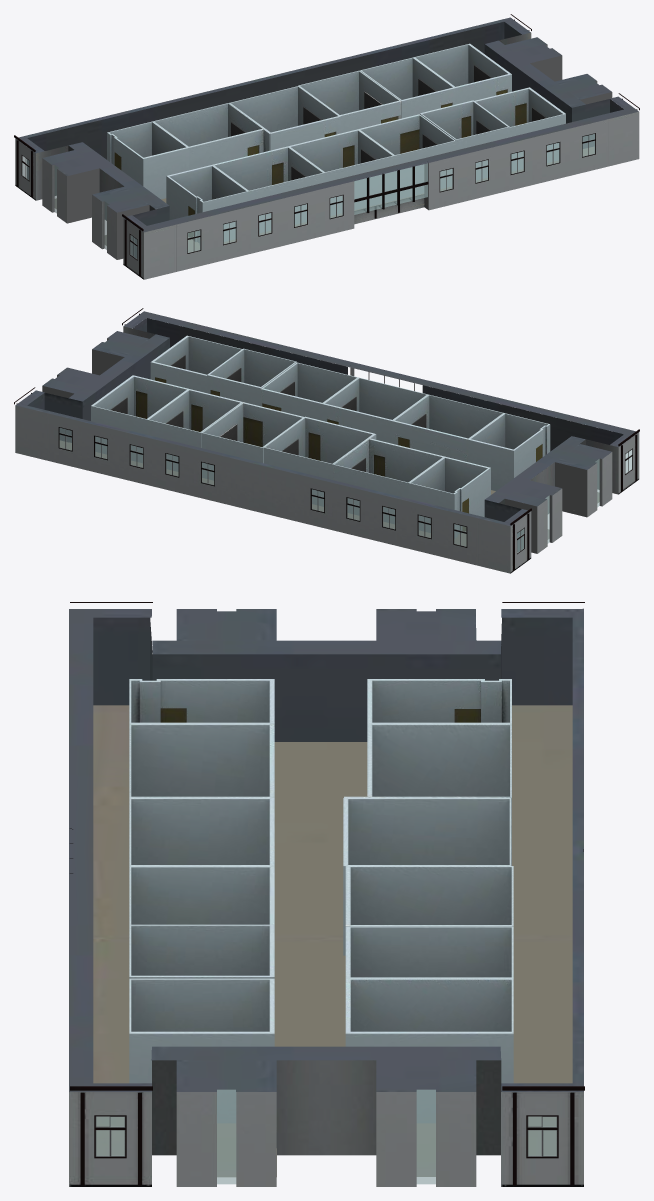
3 views of the same model, one above another, from view 1: azimuth 30°, elevation 25°; view 2: azimuth 150°, elevation 25°; view 3: azimuth 270°, elevation 25° (orthographic). The views are drawn at different scales.
Visible parts, largest first — view 1: floor_3_0, room_11_12, room_04_5, room_10_11, room_12_13, room_05_6, room_09_10, room_03_4, room_06_7, room_07_8, room_08_9, room_01_2 (+1 smaller); view 2: floor_3_0, room_05_6, room_11_12, room_10_11, room_06_7, room_04_5, room_09_10, room_12_13, room_07_8, room_03_4, room_08_9, room_01_2 (+1 smaller); view 3: floor_3_0, room_07_8, room_10_11, room_01_2, room_11_12, room_05_6, room_09_10, room_04_5, room_08_9, room_03_4, room_02_3, room_06_7 (+1 smaller).
Part boxes in pixels (x1,y1,x2,y2): floor_3_0: [14, 14, 639, 279]; room_11_12: [153, 103, 270, 170]; room_04_5: [288, 129, 394, 215]; room_10_11: [229, 86, 340, 150]; room_12_13: [107, 121, 188, 199]; room_05_6: [212, 146, 324, 232]; room_09_10: [298, 70, 401, 133]; room_03_4: [358, 114, 455, 199]; room_06_7: [166, 165, 248, 243]; room_07_8: [414, 43, 511, 104]; room_08_9: [360, 57, 455, 118]; room_01_2: [474, 87, 565, 171]; floor_3_0: [14, 308, 639, 573]; room_05_6: [392, 394, 504, 461]; room_11_12: [333, 434, 444, 523]; room_10_11: [263, 416, 374, 506]; room_06_7: [468, 413, 550, 490]; room_04_5: [322, 377, 428, 443]; room_09_10: [201, 402, 304, 480]; room_12_13: [409, 456, 490, 538]; room_07_8: [91, 375, 188, 462]; room_03_4: [260, 362, 358, 420]; room_08_9: [147, 389, 242, 471]; room_01_2: [150, 335, 242, 392]; floor_3_0: [69, 602, 584, 1186]; room_07_8: [345, 978, 513, 1122]; room_10_11: [343, 798, 511, 955]; room_01_2: [129, 978, 274, 1122]; room_11_12: [344, 723, 511, 865]; room_05_6: [129, 723, 274, 797]; room_09_10: [345, 866, 513, 926]; room_04_5: [129, 798, 274, 865]; room_08_9: [345, 926, 513, 978]; room_03_4: [129, 866, 274, 924]; room_02_3: [129, 924, 274, 978]; room_06_7: [129, 679, 274, 723].
Size of the model in its own units: 0.4319 by 0.0418 by 0.1941.
26 materials, 25 textured.
